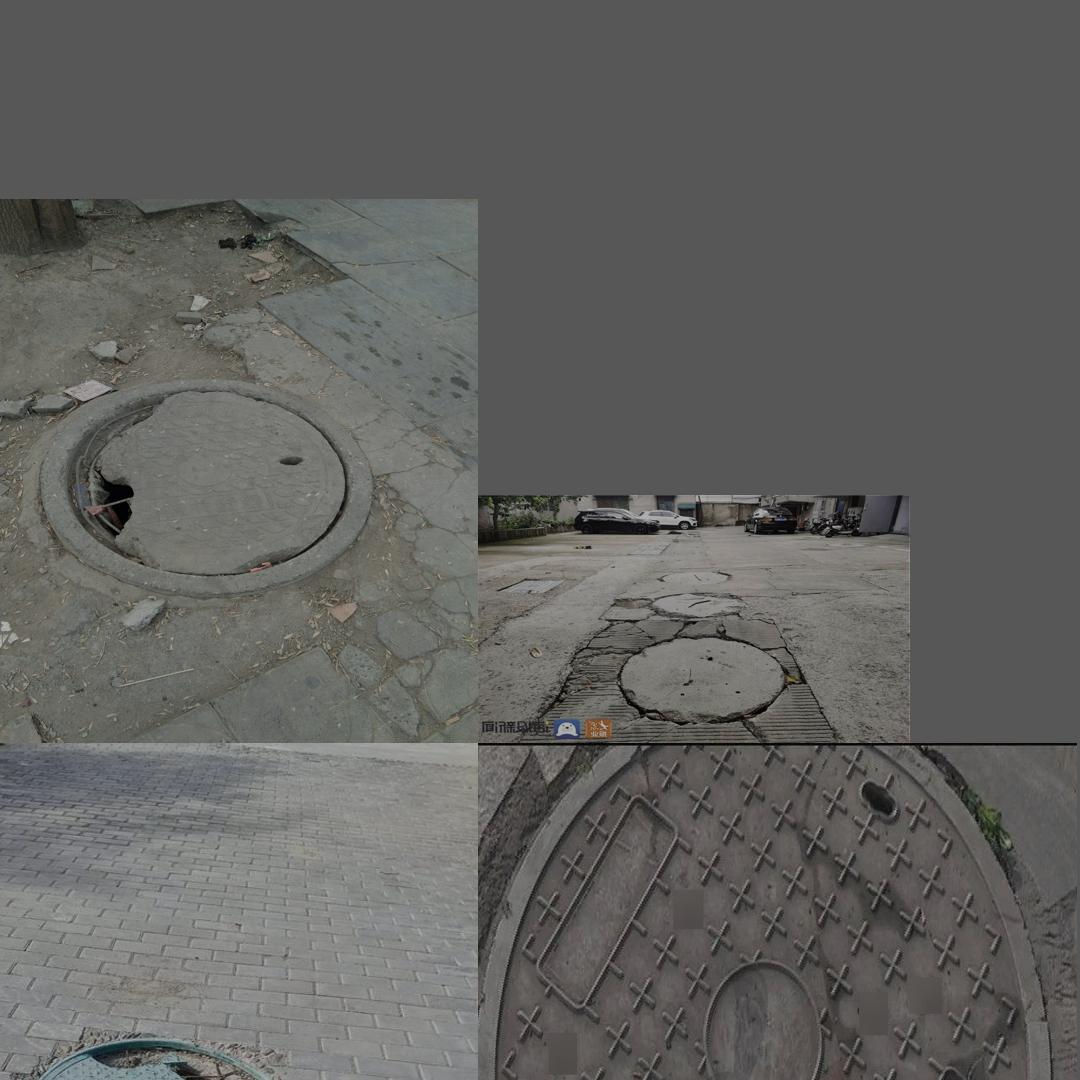broke: (494, 744, 1024, 1080), (38, 378, 374, 601), (559, 606, 813, 734), (0, 1033, 321, 1080)
